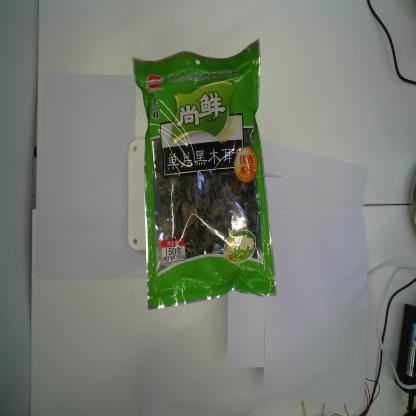Dried Food: (132, 37, 277, 310)
